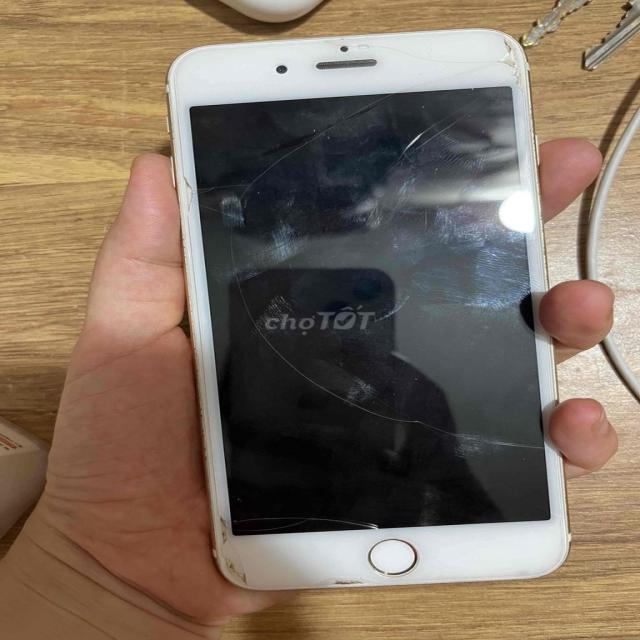physical_damage: (180, 92, 576, 469), (317, 25, 528, 88), (233, 507, 385, 538), (205, 504, 260, 583), (323, 571, 367, 588)
